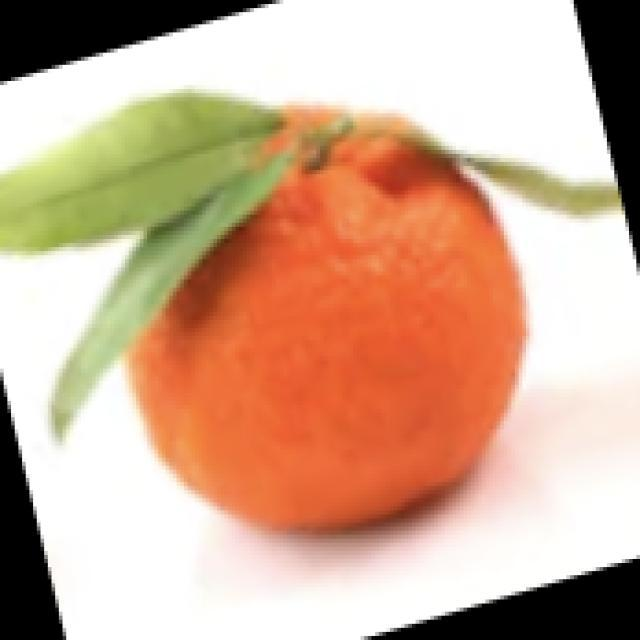sedikit-busuk: (128, 135, 524, 529)
